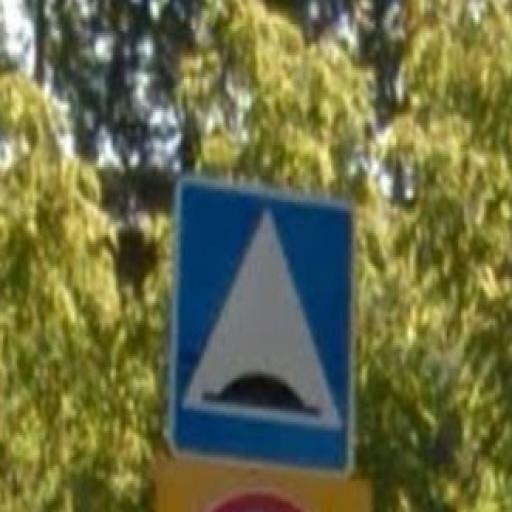traffic_sign: (168, 177, 358, 482)
